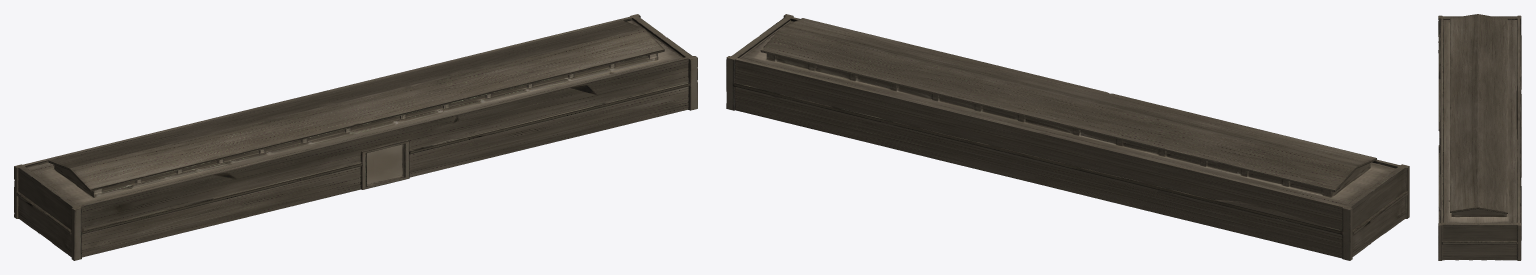
The model's file is noah.glb.
The picture shows the model from 3 angles, left to right: view 1: azimuth 30°, elevation 25°; view 2: azimuth 150°, elevation 25°; view 3: azimuth 270°, elevation 25°; orthographic projection. The views are drawn at different scales.
Size of the model in its own units: 3.27 by 0.3269 by 0.5437.
1 material, 1 textured.
